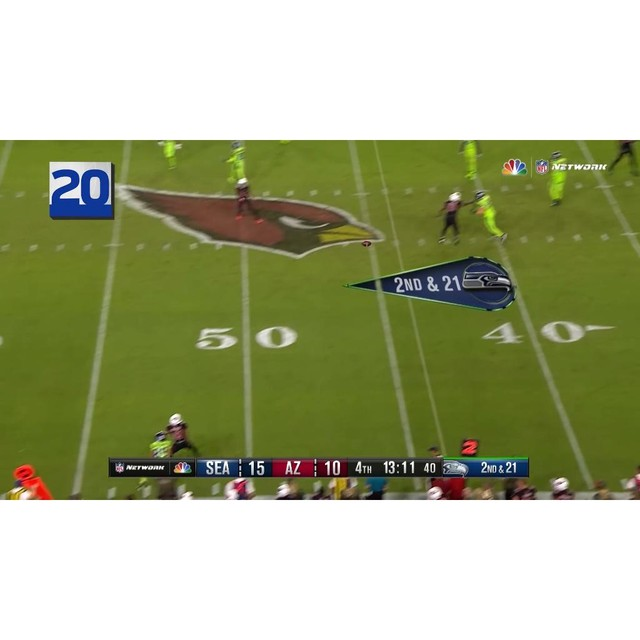american-football-player: (472, 189, 509, 242), (166, 413, 202, 458), (437, 189, 463, 243), (233, 177, 262, 225), (607, 141, 639, 177), (222, 140, 248, 184), (457, 140, 483, 181), (547, 165, 568, 208), (157, 140, 182, 170)
